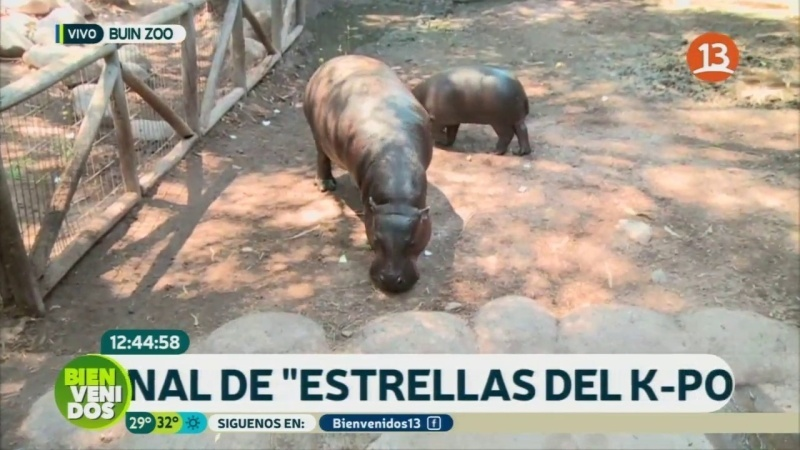hipopotamo: (290, 44, 448, 300), (402, 53, 547, 171)
